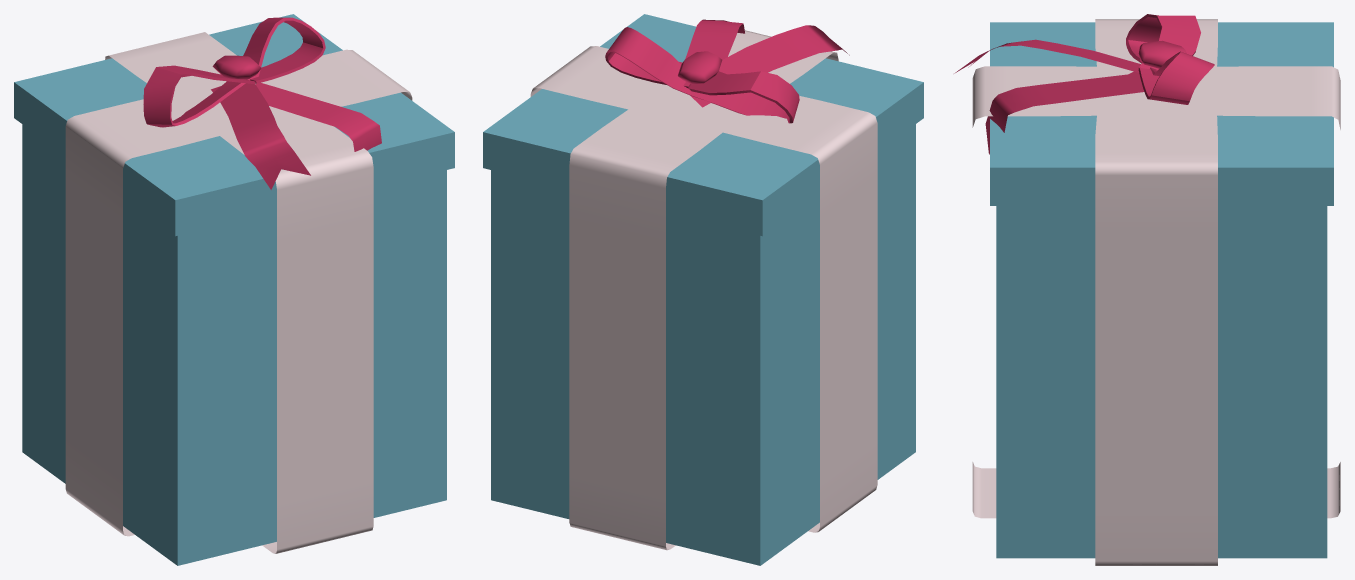
Rendered from cuboid.fbx.
3 renders of one model, left to right at view 1: azimuth 30°, elevation 25°; view 2: azimuth 150°, elevation 25°; view 3: azimuth 270°, elevation 25°, orthographic. The views are drawn at different scales.
Parts seen in each view (by area): view 1: cuboid; view 2: cuboid; view 3: cuboid.
Boxes of the visible parts, <box> form: cuboid: <box>14,14,454,565</box>; cuboid: <box>483,14,923,565</box>; cuboid: <box>954,14,1340,565</box>.
Bounding box in the file's own units: 1.07 × 1.57 × 1.17.
